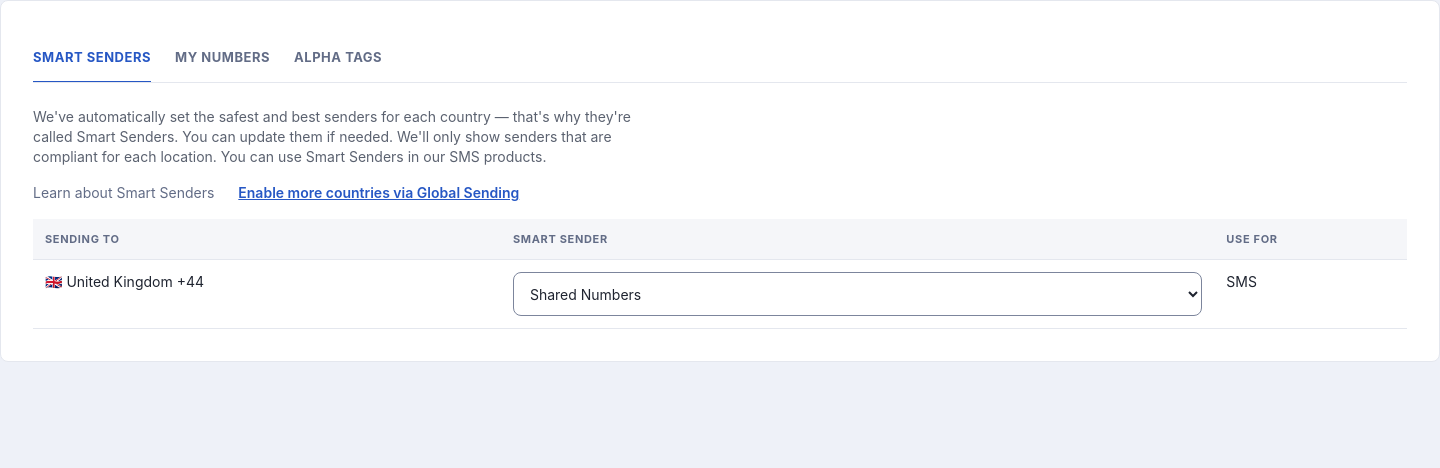
Test: SmartSendersTab › renders the server's refusal verbatim
Select "+447400123123 (Own Number)" in the dropdown named "Smart Sender" at (858, 294), box [513, 272, 1202, 316]
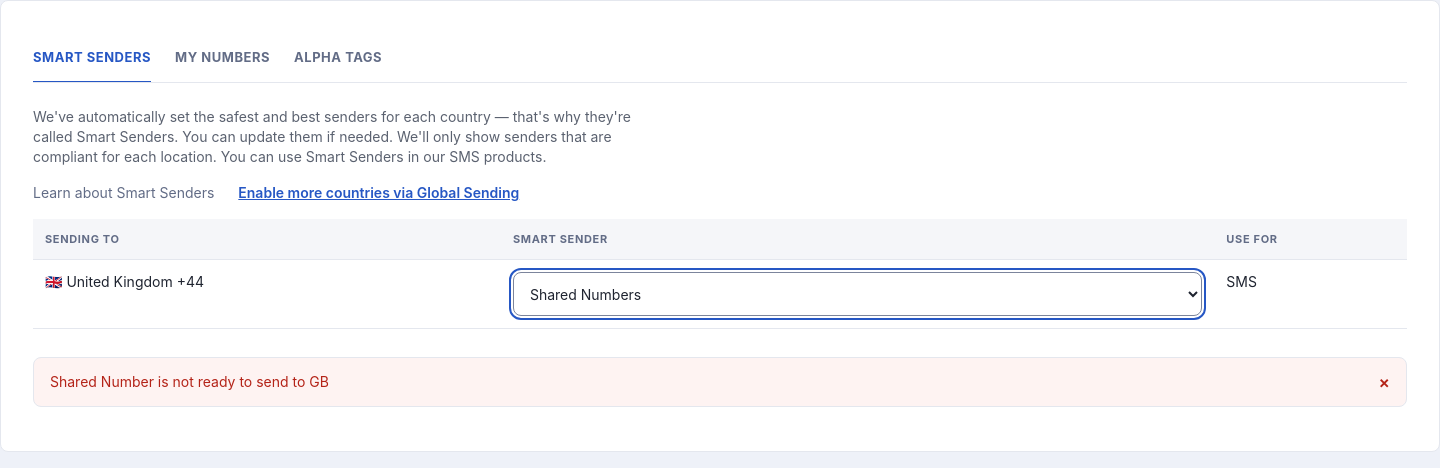
Check: the message shows "Shared Number is not ready to send to GB", box [50, 373, 329, 390]
